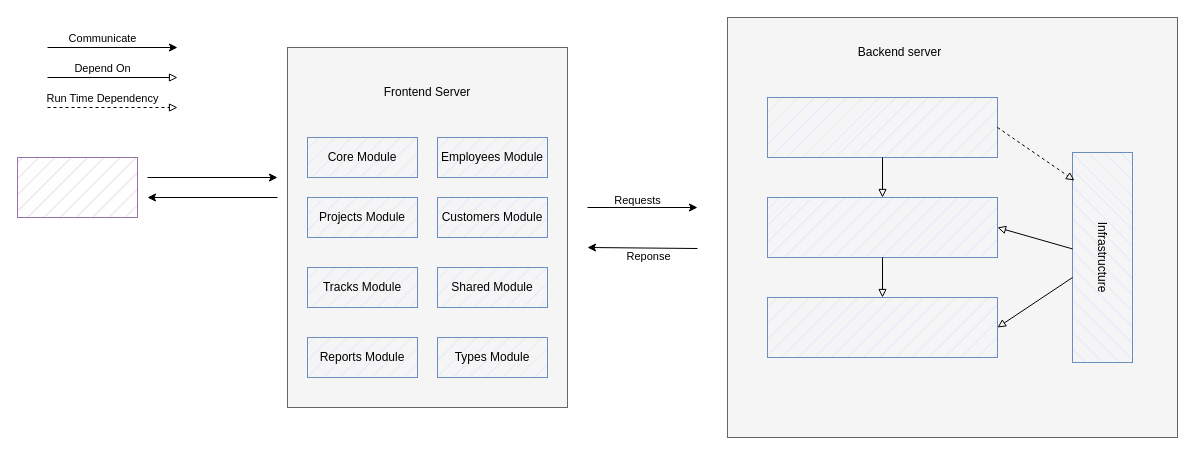
Some shapes in this 1195 by 455 pixel diagram are drawn without their labels. The centre of each missing label's shape, as x and y in pixels:
Application Layer: the point at 882,227
Client: the point at 77,187
Domain Layer: the point at 882,327
Presentaion: the point at 882,127
